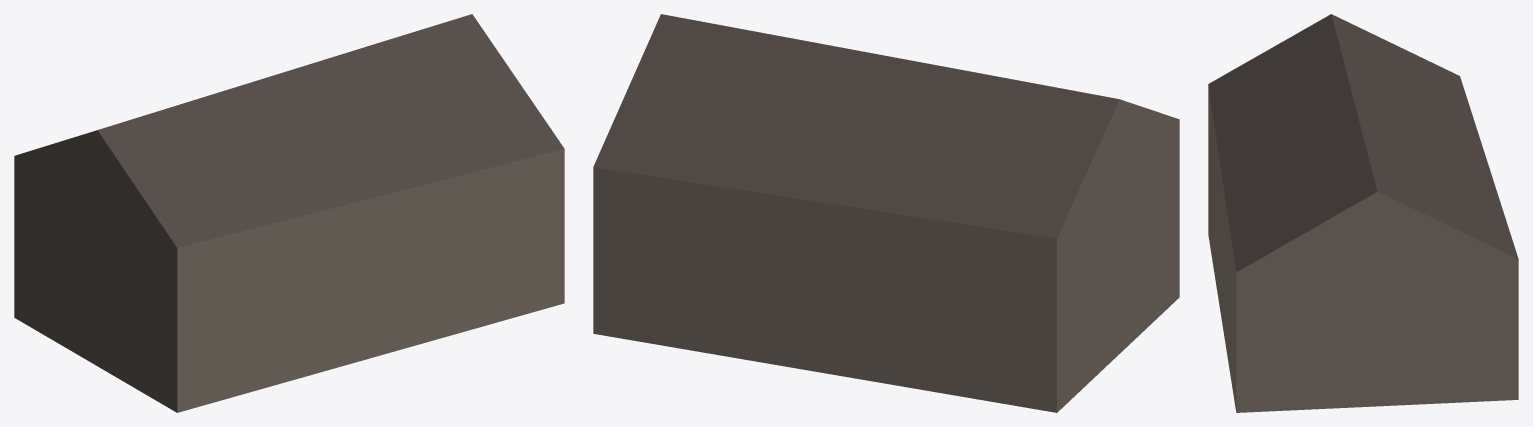
3 renders of one model, left to right at view 1: azimuth 30°, elevation 25°; view 2: azimuth 150°, elevation 25°; view 3: azimuth 270°, elevation 25°, orthographic. The views are drawn at different scales.
Visible parts, largest first — view 1: HP-w1512965856; view 2: HP-w1512965856; view 3: HP-w1512965856.
Part boxes in pixels (x1,y1,x2,y2): HP-w1512965856: (14, 14, 564, 412); HP-w1512965856: (593, 14, 1179, 412); HP-w1512965856: (1208, 14, 1518, 412).
Size of the model in its own units: 17.38 by 9.17 by 12.02.
